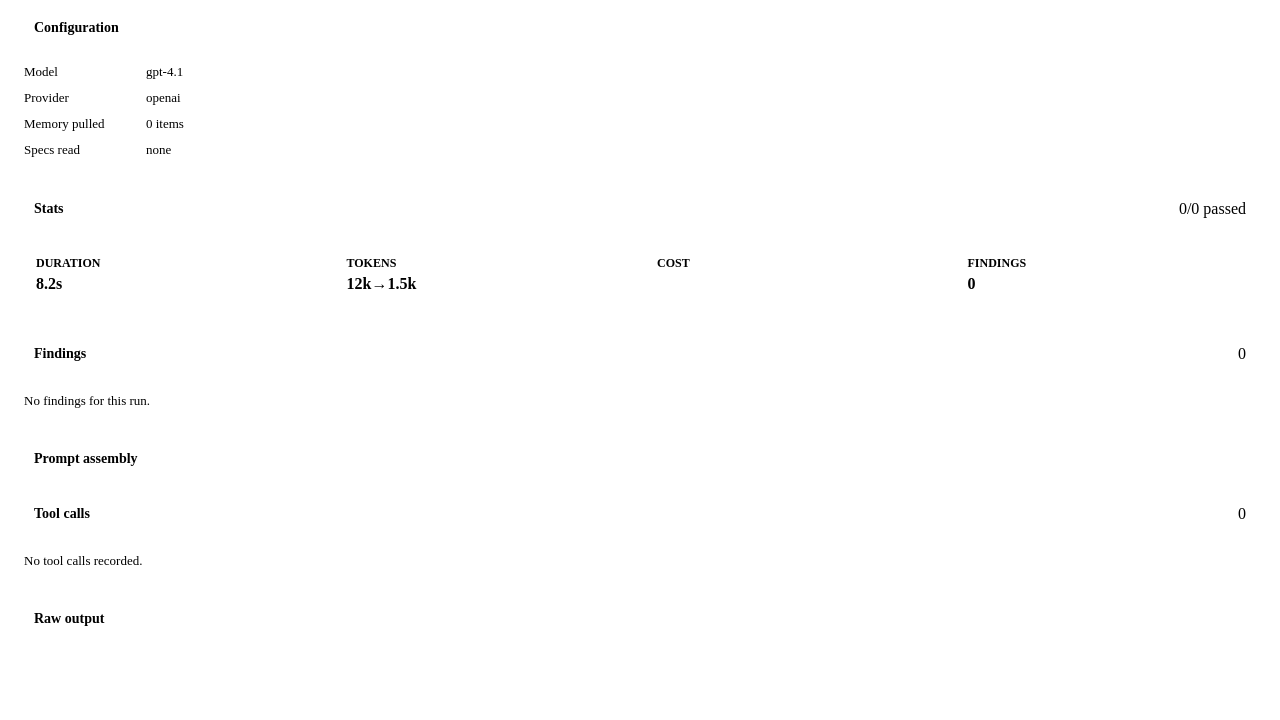
Scenario: TraceBody prompt assembly › renders a trace written before skills_used / prompt_tokens existed
Click the button "Prompt assembly": (86, 458) x1=8 y1=439 x2=1272 y2=479
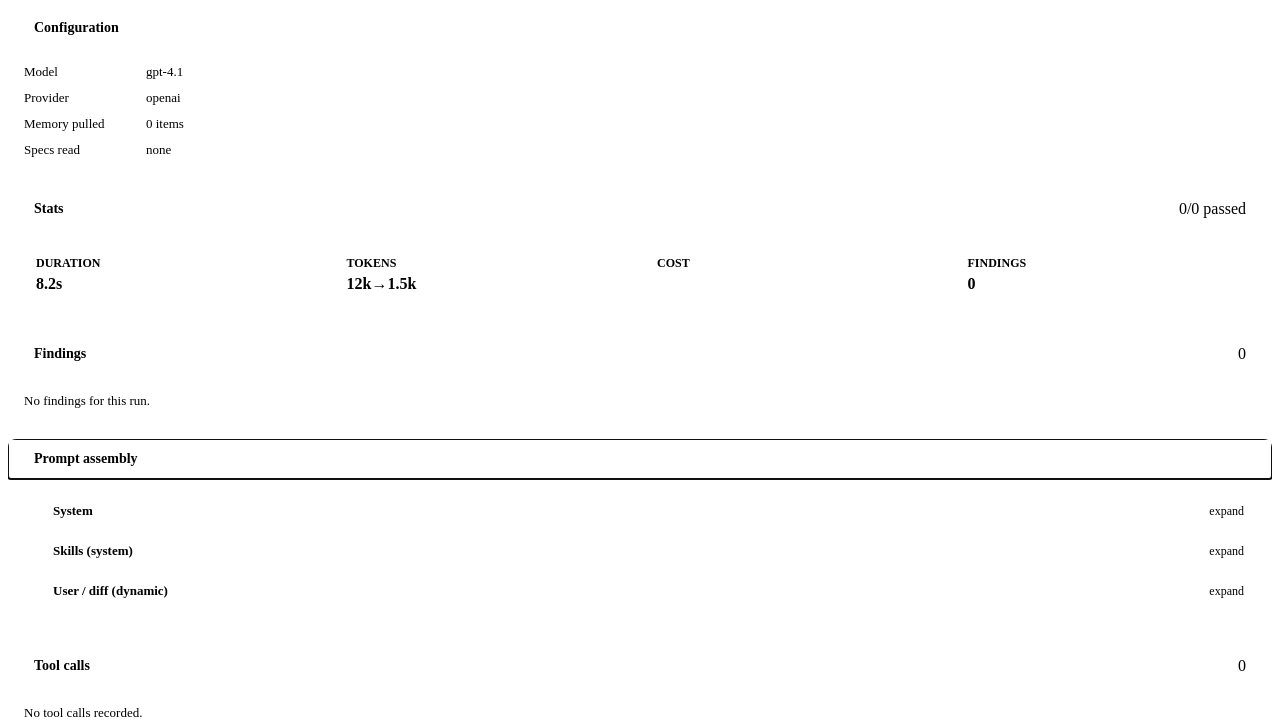
expect the button "System expand" is shown: met, box x1=53 y1=503 x2=1244 y2=518
expect the button "Skills (system) expand" is shown: met, box x1=53 y1=543 x2=1244 y2=558
